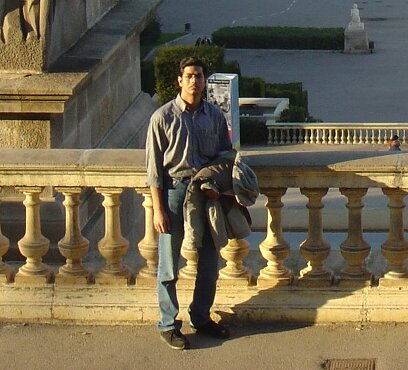person: (146, 53, 255, 351)
